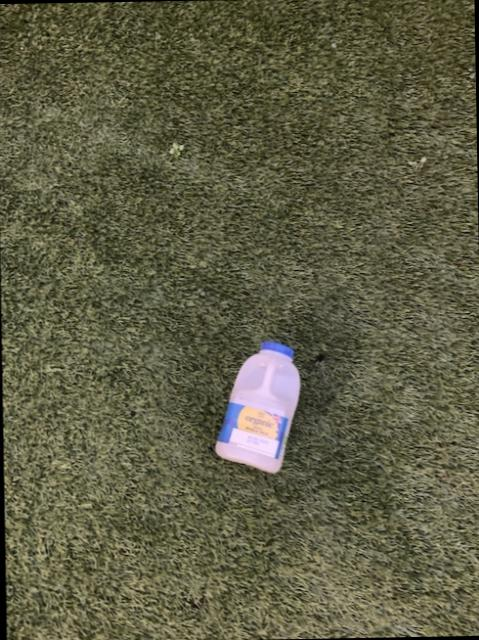plastic: (214, 341, 297, 471)
